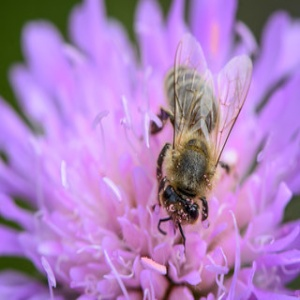bee: (150, 32, 256, 254)
